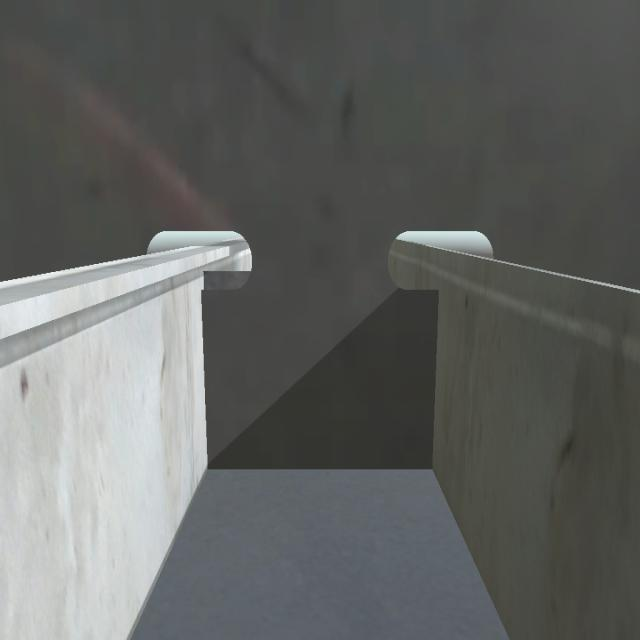fillet_yong_jeop_jang: (208, 452, 438, 482)
longi_yong_jeop_jang: (421, 288, 445, 472), (194, 290, 210, 466)
plate_behind: (205, 266, 250, 300)
